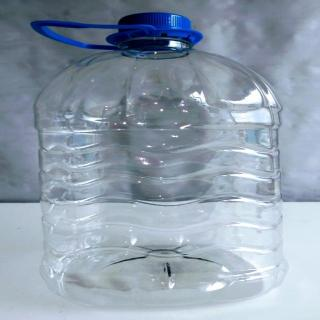Plastic-bottle: (24, 9, 296, 313)
